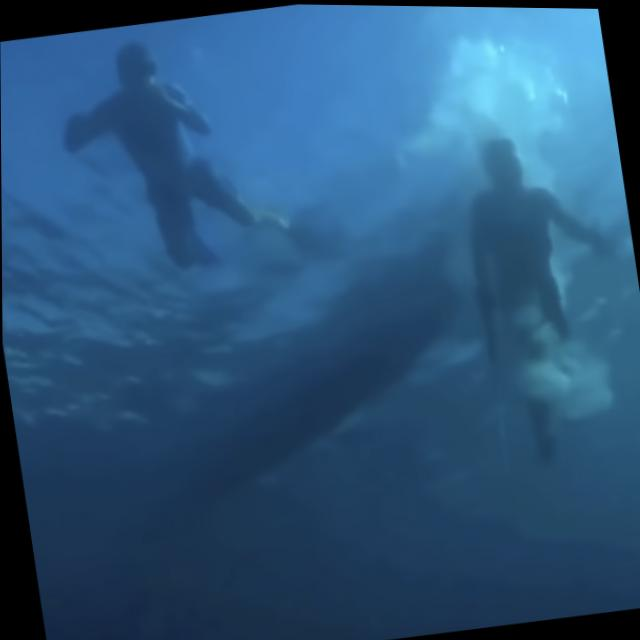human: (40, 9, 326, 301), (431, 109, 640, 476)
